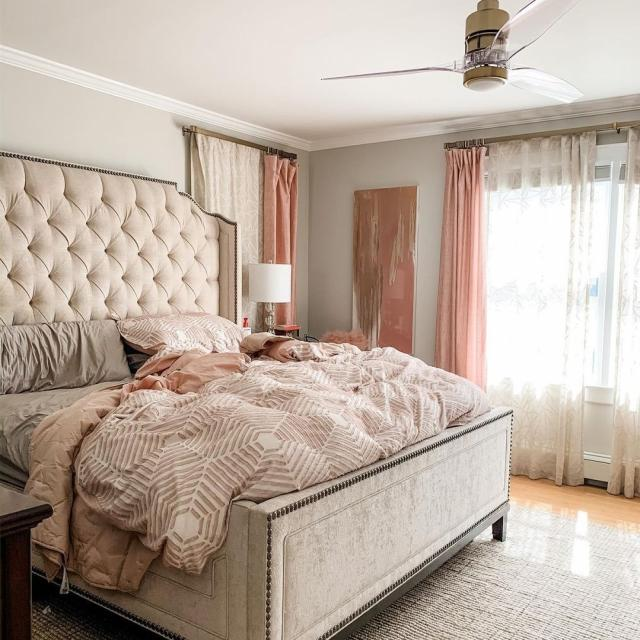bed: (9, 296, 493, 574)
